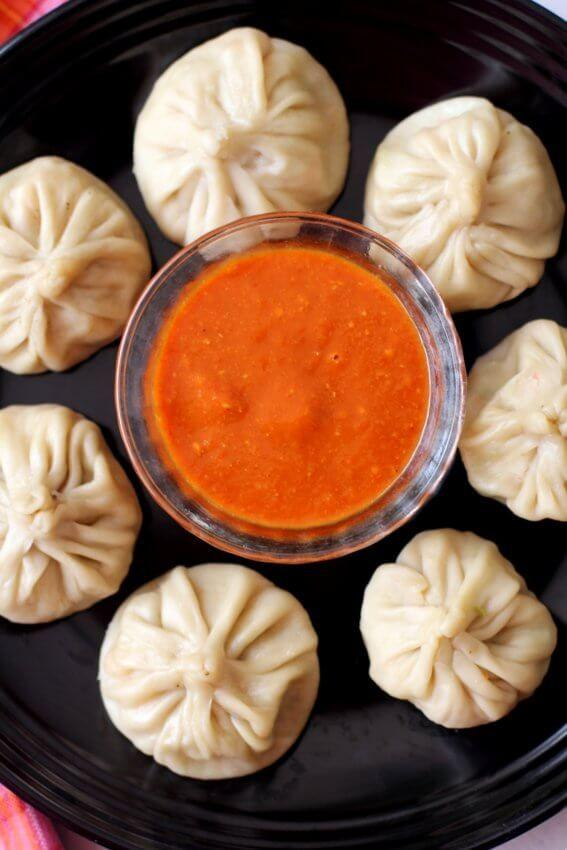momos: (98, 563, 317, 779), (133, 28, 350, 244), (364, 96, 564, 312), (360, 530, 556, 728), (0, 156, 151, 374), (0, 403, 141, 623), (460, 319, 566, 520)
